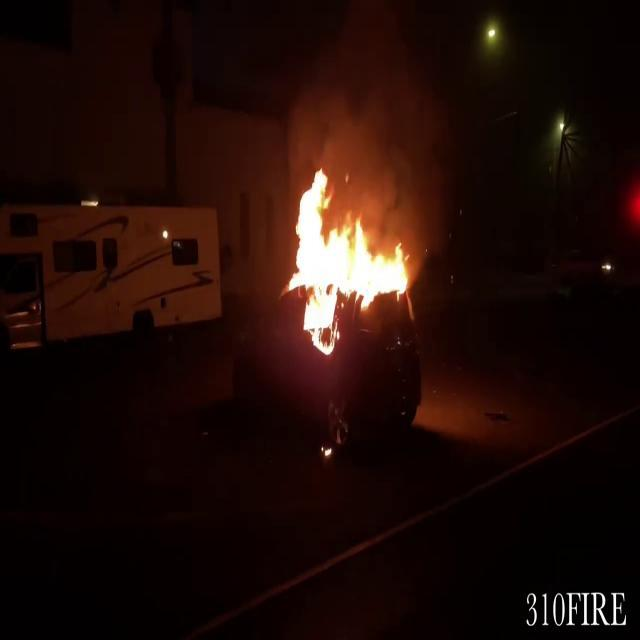Fire: (282, 162, 416, 354)
Smoke: (314, 4, 456, 241)
